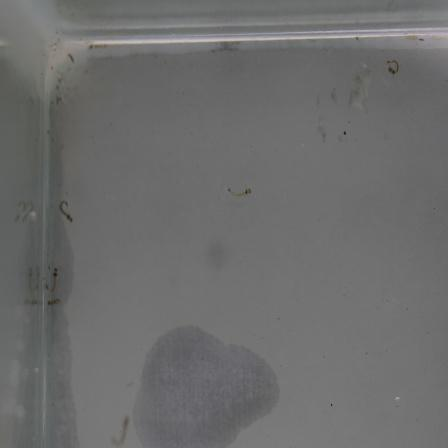Jentik-Nyamuk: (46, 263, 64, 315), (56, 195, 78, 229), (224, 180, 256, 202), (382, 54, 405, 83)
